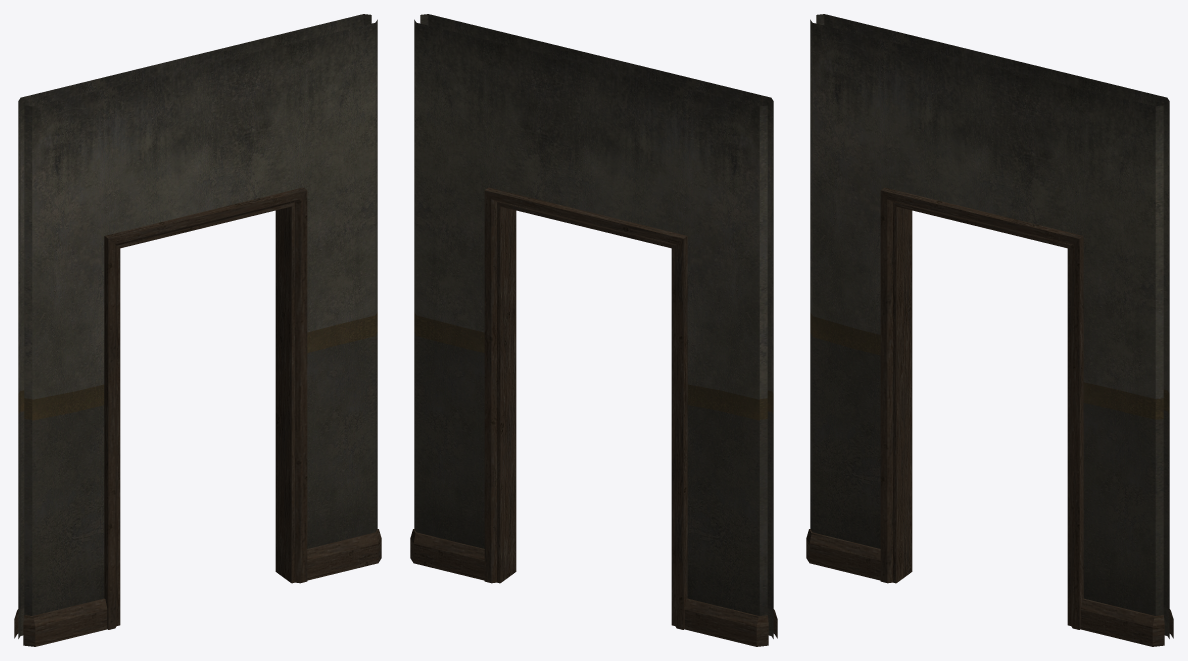
The model's file is doorway_1_half.obj.
3 views of the same model, side by side, from view 1: azimuth 30°, elevation 25°; view 2: azimuth 150°, elevation 25°; view 3: azimuth 330°, elevation 25° (orthographic).
Visible parts, largest first — view 1: doorway_1_half; view 2: doorway_1_half; view 3: doorway_1_half.
Part boxes in pixels (x1=…): doorway_1_half: x1=14, y1=14, x2=381, y2=646; doorway_1_half: x1=410, y1=14, x2=777, y2=646; doorway_1_half: x1=806, y1=14, x2=1173, y2=646.
Bounding box in the file's own units: 2.09 × 3 × 0.2.
